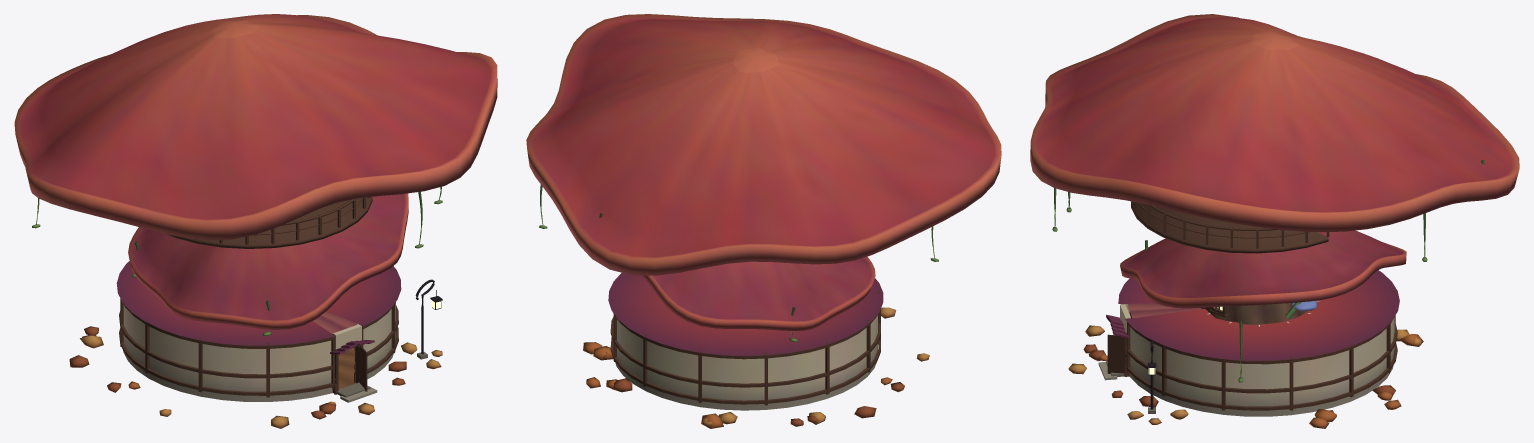
Rendered from ev_genis.glb.
The picture shows the model from 3 angles, left to right: view 1: azimuth 30°, elevation 25°; view 2: azimuth 150°, elevation 25°; view 3: azimuth 270°, elevation 25°; orthographic projection. The views are drawn at different scales.
Visible parts, largest first — view 1: ev_genis_LOD0; view 2: ev_genis_LOD0; view 3: ev_genis_LOD0.
Part boxes in pixels (x1,y1,x2,y2): ev_genis_LOD0: [14, 14, 497, 428]; ev_genis_LOD0: [526, 14, 1001, 428]; ev_genis_LOD0: [1030, 14, 1519, 428].
Size of what is drawn, in the model's own units: 27.86 by 20 by 27.45.
